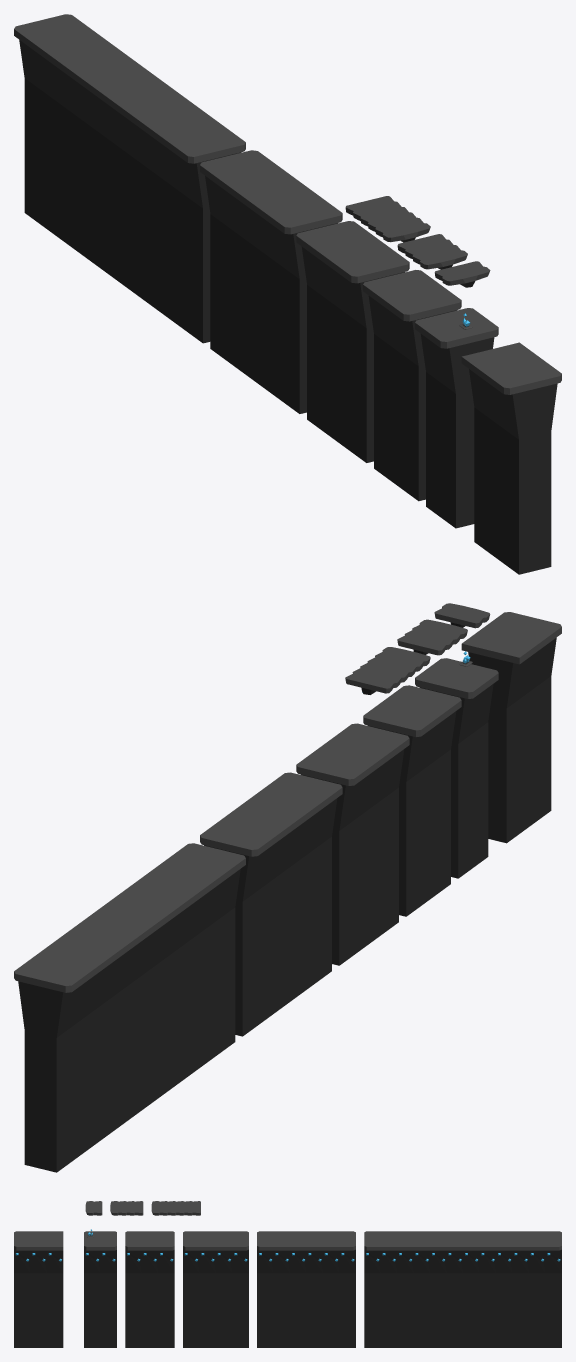
Rendered from GreyGround.fbx.
3 views of the same model, one above another, from view 1: azimuth 30°, elevation 25°; view 2: azimuth 150°, elevation 25°; view 3: azimuth 270°, elevation 25° (orthographic). The views are drawn at different scales.
Visible parts, largest first — view 1: Ground.12, Ground6, Ground, Ground4, Ground3, Ground2, FliingGroun3, FliingGround2, FliingGround1; view 2: Ground.12, Ground6, Ground4, Ground, Ground3, Ground2, FliingGroun3, FliingGround2, FliingGround1; view 3: Ground.12, Ground6, Ground4, Ground, Ground3, Ground2, FliingGroun3, FliingGround2, FliingGround1.
Part boxes in pixels (<box>): Ground.12: <box>14,14,245,343</box>; Ground6: <box>200,150,342,413</box>; Ground: <box>461,342,561,574</box>; Ground4: <box>296,221,409,462</box>; Ground3: <box>363,270,461,501</box>; Ground2: <box>415,308,498,528</box>; FliingGroun3: <box>345,196,430,242</box>; FliingGround2: <box>397,234,467,269</box>; FliingGround1: <box>434,261,490,287</box>; Ground.12: <box>14,843,245,1172</box>; Ground6: <box>200,772,342,1036</box>; Ground4: <box>296,723,409,965</box>; Ground: <box>461,612,561,843</box>; Ground3: <box>363,685,461,916</box>; Ground2: <box>415,658,498,878</box>; FliingGroun3: <box>345,647,430,694</box>; FliingGround2: <box>397,619,467,655</box>; FliingGround1: <box>434,603,490,628</box>; Ground.12: <box>364,1231,561,1347</box>; Ground6: <box>257,1231,355,1347</box>; Ground4: <box>183,1231,248,1347</box>; Ground: <box>14,1231,63,1347</box>; Ground3: <box>125,1231,174,1347</box>; Ground2: <box>84,1231,116,1347</box>; FliingGroun3: <box>151,1201,200,1215</box>; FliingGround2: <box>110,1201,143,1215</box>; FliingGround1: <box>85,1201,102,1215</box>.
Size of the model in its own units: 900 by 3658 by 13300.
